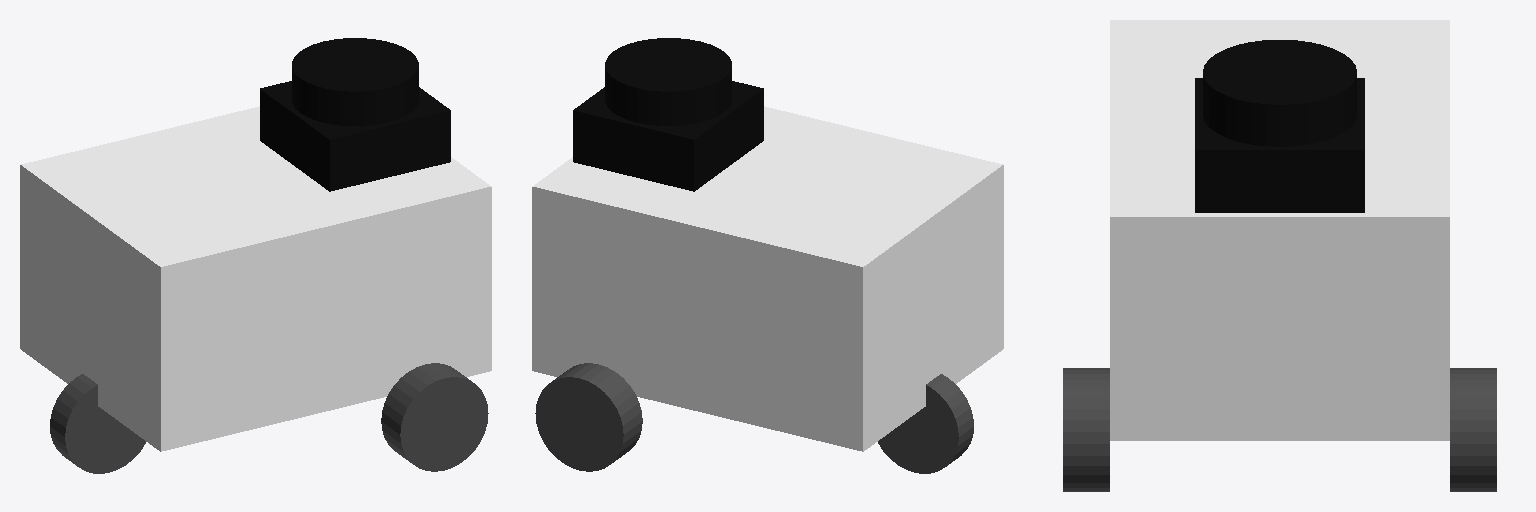
robot.urdf — mcub:
<?xml version="1.0" ?>
<!-- =================================================================================== -->
<!-- |    This document was autogenerated by xacro from /home/cub/colcon_ws/src/cub/mcub_bringup/urdf/mcub.urdf.xacro | -->
<!-- |    EDITING THIS FILE BY HAND IS NOT RECOMMENDED                                 | -->
<!-- =================================================================================== -->
<robot name="mcub" xmlns:cubsim="https://github.com/tomoki-na/Cub_ROS/cubsim">
  <!--
    mCub simulation model template.

    Coordinate convention:
      x: forward, y: left, z: up
      base_link: kept at the same height as the existing cub_description/mcub.urdf

    Confirmed from cub_description/urdf/mcub.urdf:
      drive wheel diameter: 0.040 m
      displayed axle/tread span: 0.130 m (used provisionally as wheel track)

    NOTE(INPUT): wheel_odometry.cpp and control_mcub_moter_node.cpp use 0.125 m
    as the drive-wheel center-to-center distance.  Confirm whether the simulation
    track should be 0.130 m (description model) or 0.125 m (control model).

    TODO(INPUT): Replace the provisional values below with measured/CAD values.
      - base_mass, base_cog_*, and base inertia
      - wheel_width, wheel_mass, wheel inertia, effort, and velocity limits
      - caster pivot position, trail, wheel size, masses, and inertias
      - SLC1_link position, especially lidar_scan_z (actual scan-plane height)

    Generate plain URDF before importing into Unity:
      xacro mcub.urdf.xacro -o mcub.urdf
  -->
  <material name="mcub_white">
    <color rgba="1 1 1 1"/>
  </material>
  <material name="mcub_gray">
    <color rgba="0.35 0.35 0.35 1"/>
  </material>
  <material name="mcub_black">
    <color rgba="0.08 0.08 0.08 1"/>
  </material>
  <link name="base_link">
    <inertial>
      <origin rpy="0 0 0" xyz="-0.045 0.0 0.07"/>
      <mass value="1.0"/>
      <inertia ixx="0.002" ixy="0.0" ixz="0.0" iyy="0.003" iyz="0.0" izz="0.004"/>
    </inertial>
    <visual>
      <origin rpy="0 0 0" xyz="-0.045 0 0.07"/>
      <geometry>
        <box size="0.15 0.11 0.08"/>
      </geometry>
      <material name="mcub_white"/>
    </visual>
    <collision>
      <origin rpy="0 0 0" xyz="-0.045 0 0.07"/>
      <geometry>
        <box size="0.15 0.11 0.08"/>
      </geometry>
    </collision>
  </link>
  <joint name="base_to_footprint" type="fixed">
    <parent link="base_link"/>
    <child link="base_footprint"/>
    <origin rpy="0 0 0" xyz="0 0 0"/>
  </joint>
  <link name="base_footprint"/>
  <joint name="left_wheel_joint" type="continuous">
    <parent link="base_link"/>
    <child link="left_wheel_link"/>
    <origin rpy="0 0 0" xyz="0.0 0.0625 0.02"/>
    <axis xyz="0 1 0"/>
    <limit effort="1.0" velocity="20.0"/>
    <dynamics damping="0.01" friction="0.01"/>
  </joint>
  <link name="left_wheel_link">
    <inertial>
      <mass value="0.05"/>
      <inertia ixx="1.2e-05" ixy="0" ixz="0" iyy="1e-05" iyz="0" izz="1.2e-05"/>
    </inertial>
    <visual>
      <origin rpy="1.5707963267948966 0 0"/>
      <geometry>
        <cylinder length="0.015" radius="0.02"/>
      </geometry>
      <material name="mcub_gray"/>
    </visual>
    <collision>
      <origin rpy="1.5707963267948966 0 0"/>
      <geometry>
        <cylinder length="0.015" radius="0.02"/>
      </geometry>
    </collision>
  </link>
  <joint name="right_wheel_joint" type="continuous">
    <parent link="base_link"/>
    <child link="right_wheel_link"/>
    <origin rpy="0 0 0" xyz="0.0 -0.0625 0.02"/>
    <axis xyz="0 1 0"/>
    <limit effort="1.0" velocity="20.0"/>
    <dynamics damping="0.01" friction="0.01"/>
  </joint>
  <link name="right_wheel_link">
    <inertial>
      <mass value="0.05"/>
      <inertia ixx="1.2e-05" ixy="0" ixz="0" iyy="1e-05" iyz="0" izz="1.2e-05"/>
    </inertial>
    <visual>
      <origin rpy="1.5707963267948966 0 0"/>
      <geometry>
        <cylinder length="0.015" radius="0.02"/>
      </geometry>
      <material name="mcub_gray"/>
    </visual>
    <collision>
      <origin rpy="1.5707963267948966 0 0"/>
      <geometry>
        <cylinder length="0.015" radius="0.02"/>
      </geometry>
    </collision>
  </link>
  <!-- Passive trailing caster: free swivel about z plus free wheel rotation about y. -->
  <joint name="caster_swivel_joint" type="continuous">
    <parent link="base_link"/>
    <child link="caster_swivel_link"/>
    <origin rpy="0 0 0" xyz="-0.1 0 0.04"/>
    <axis xyz="0 0 1"/>
    <limit effort="0.1" velocity="30.0"/>
    <dynamics damping="0.02" friction="0.0"/>
  </joint>
  <link name="caster_swivel_link">
    <inertial>
      <origin rpy="0 0 0" xyz="-0.0075 0 -0.02"/>
      <mass value="0.02"/>
      <inertia ixx="1e-05" ixy="0" ixz="0" iyy="1e-05" iyz="0" izz="1e-05"/>
    </inertial>
    <visual>
      <origin rpy="0 1.5707963267948966 0" xyz="-0.0075 0 -0.02"/>
      <geometry>
        <cylinder length="0.015" radius="0.004"/>
      </geometry>
      <material name="mcub_gray"/>
    </visual>
    <collision>
      <origin rpy="0 1.5707963267948966 0" xyz="-0.0075 0 -0.02"/>
      <geometry>
        <cylinder length="0.015" radius="0.004"/>
      </geometry>
    </collision>
  </link>
  <joint name="caster_wheel_joint" type="continuous">
    <parent link="caster_swivel_link"/>
    <child link="caster_wheel_link"/>
    <origin rpy="0 0 0" xyz="-0.015 0 -0.02"/>
    <axis xyz="0 1 0"/>
    <limit effort="0.1" velocity="30.0"/>
    <dynamics damping="0.005" friction="0.0"/>
  </joint>
  <link name="caster_wheel_link">
    <inertial>
      <mass value="0.02"/>
      <inertia ixx="5e-06" ixy="0" ixz="0" iyy="4e-06" iyz="0" izz="5e-06"/>
    </inertial>
    <visual>
      <origin rpy="1.5707963267948966 0 0"/>
      <geometry>
        <cylinder length="0.012" radius="0.02"/>
      </geometry>
      <material name="mcub_gray"/>
    </visual>
    <collision>
      <origin rpy="1.5707963267948966 0 0"/>
      <geometry>
        <cylinder length="0.012" radius="0.02"/>
      </geometry>
    </collision>
  </link>
  <!-- SLC1_link is the ROS LaserScan frame and is located on the scan plane. -->
  <joint name="base_to_SLC1" type="fixed">
    <parent link="base_link"/>
    <child link="SLC1_link"/>
    <origin rpy="0 0 3.141592653589793" xyz="0.0 0.0 0.14"/>
  </joint>
  <link name="SLC1_link">
    <inertial>
      <origin rpy="0 0 0" xyz="0 0 -0.0125"/>
      <mass value="0.11"/>
      <inertia ixx="2.5e-05" ixy="0" ixz="0" iyy="2.5e-05" iyz="0" izz="5e-05"/>
    </inertial>
    <!-- The cylinder center is the LiDAR scan line/plane. -->
    <visual>
      <geometry>
        <cylinder length="0.015" radius="0.025"/>
      </geometry>
      <material name="mcub_black"/>
    </visual>
    <collision>
      <geometry>
        <cylinder length="0.015" radius="0.025"/>
      </geometry>
    </collision>
  </link>
  <!-- Preserve the SLC1_base frame used by the current RViz configuration. -->
  <joint name="SLC1_base_joint" type="fixed">
    <parent link="SLC1_link"/>
    <child link="SLC1_base"/>
    <origin rpy="0 0 0" xyz="0 0 0"/>
  </joint>
  <link name="SLC1_base">
    <visual>
      <origin rpy="0 0 0" xyz="0 0 -0.02"/>
      <geometry>
        <box size="0.055 0.055 0.025"/>
      </geometry>
      <material name="mcub_black"/>
    </visual>
    <collision>
      <origin rpy="0 0 0" xyz="0 0 -0.02"/>
      <geometry>
        <box size="0.055 0.055 0.025"/>
      </geometry>
    </collision>
  </link>
  <!-- CubSim Editor import metadata. UnitySensorsROS is intentionally not used. -->
  <cubsim:sensor frequency="10.0" link="SLC1_link" max_range="12.0" min_range="0.05" name="slc1" samples="500" type="raycast_lidar"/>
</robot>

--- Facts derived from the render (not from the file) ---
The picture shows the robot from 3 angles, left to right: view 1: azimuth 30°, elevation 25°; view 2: azimuth 150°, elevation 25°; view 3: azimuth 270°, elevation 25°; orthographic projection.
Robot: mcub — 8 links, 7 joints (4 continuous, 3 fixed); root link base_link; default pose: every joint at zero.
Links seen in each view (by area): view 1: base_link, SLC1_base, SLC1_link, right_wheel_link, caster_wheel_link; view 2: base_link, SLC1_base, SLC1_link, left_wheel_link, caster_wheel_link; view 3: base_link, SLC1_link, SLC1_base, left_wheel_link, right_wheel_link.
Boxes of the visible links, left/top/right/bottom form: base_link: left=20, top=106, right=491, bottom=451; SLC1_base: left=260, top=81, right=450, bottom=191; SLC1_link: left=292, top=38, right=418, bottom=125; right_wheel_link: left=381, top=363, right=488, bottom=471; caster_wheel_link: left=50, top=374, right=145, bottom=473; base_link: left=532, top=106, right=1003, bottom=451; SLC1_base: left=573, top=81, right=763, bottom=191; SLC1_link: left=605, top=38, right=731, bottom=125; left_wheel_link: left=535, top=363, right=642, bottom=471; caster_wheel_link: left=878, top=374, right=973, bottom=473; base_link: left=1110, top=20, right=1449, bottom=440; SLC1_link: left=1203, top=40, right=1356, bottom=146; SLC1_base: left=1195, top=78, right=1364, bottom=212; left_wheel_link: left=1450, top=368, right=1496, bottom=491; right_wheel_link: left=1063, top=368, right=1109, bottom=491.
Bounding box of the posed robot: 0.165 × 0.14 × 0.1475 m (x, y, z).
Geometry: primitives only (box / cylinder / sphere), no mesh files.
